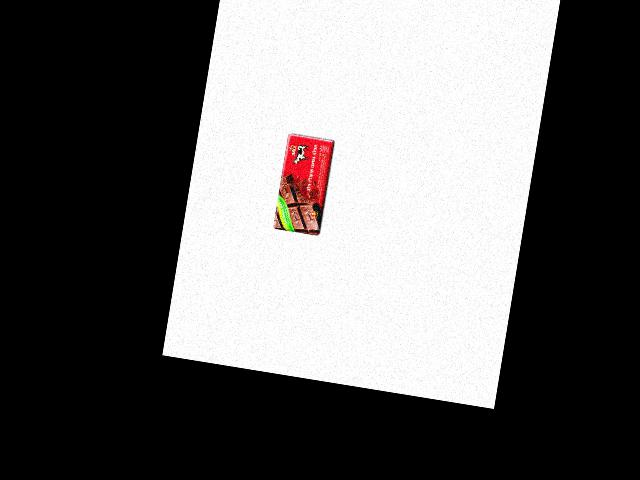chocolate: (271, 129, 339, 236)
